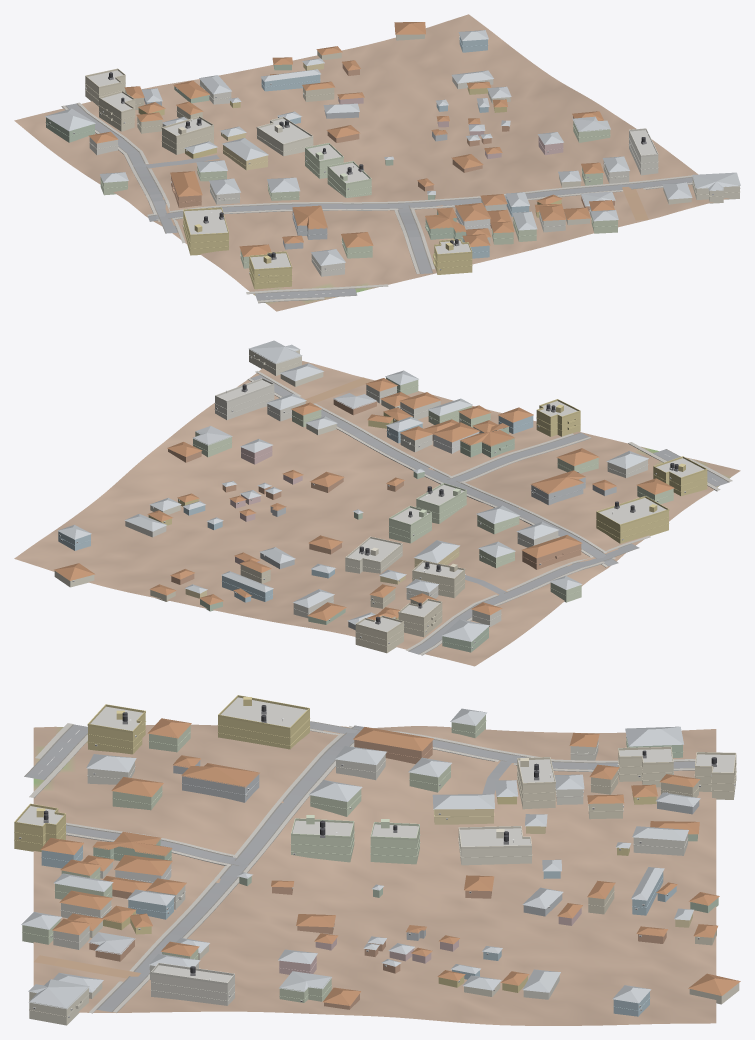
The picture shows the model from 3 angles, top to bottom: view 1: azimuth 30°, elevation 25°; view 2: azimuth 150°, elevation 25°; view 3: azimuth 270°, elevation 25°; orthographic projection. The views are drawn at different scales.
Visible parts, largest first — view 1: Terrain-col, Buildings-col, Roads-col, Details, Sidewalks-col; view 2: Terrain-col, Buildings-col, Roads-col, Details, Sidewalks-col; view 3: Terrain-col, Buildings-col, Roads-col, Details, Sidewalks-col.
Boxes of the visible parts, box(x1,y1,x2,y2) form: Terrain-col: box(14, 14, 729, 311); Buildings-col: box(45, 22, 740, 289); Roads-col: box(65, 103, 692, 300); Details: box(45, 36, 740, 283); Sidewalks-col: box(61, 102, 692, 303); Terrain-col: box(14, 361, 740, 666); Buildings-col: box(54, 340, 707, 653); Roads-col: box(251, 375, 729, 654); Details: box(58, 355, 707, 648); Sidewalks-col: box(247, 371, 732, 655); Terrain-col: box(33, 724, 716, 1025); Buildings-col: box(14, 697, 740, 1025); Roads-col: box(24, 721, 695, 1012); Details: box(14, 695, 736, 1017); Sidewalks-col: box(29, 723, 695, 1013).
Size of the model in its own units: 271 by 20.27 by 273.
